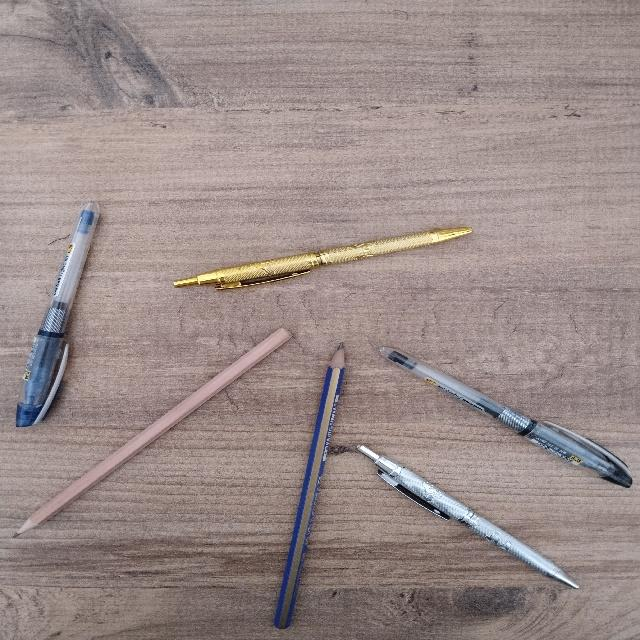pen: (380, 347, 631, 487), (16, 202, 98, 426)
pencil: (14, 328, 290, 536), (274, 343, 345, 629)
signature pen: (357, 445, 578, 588), (173, 227, 471, 288)
